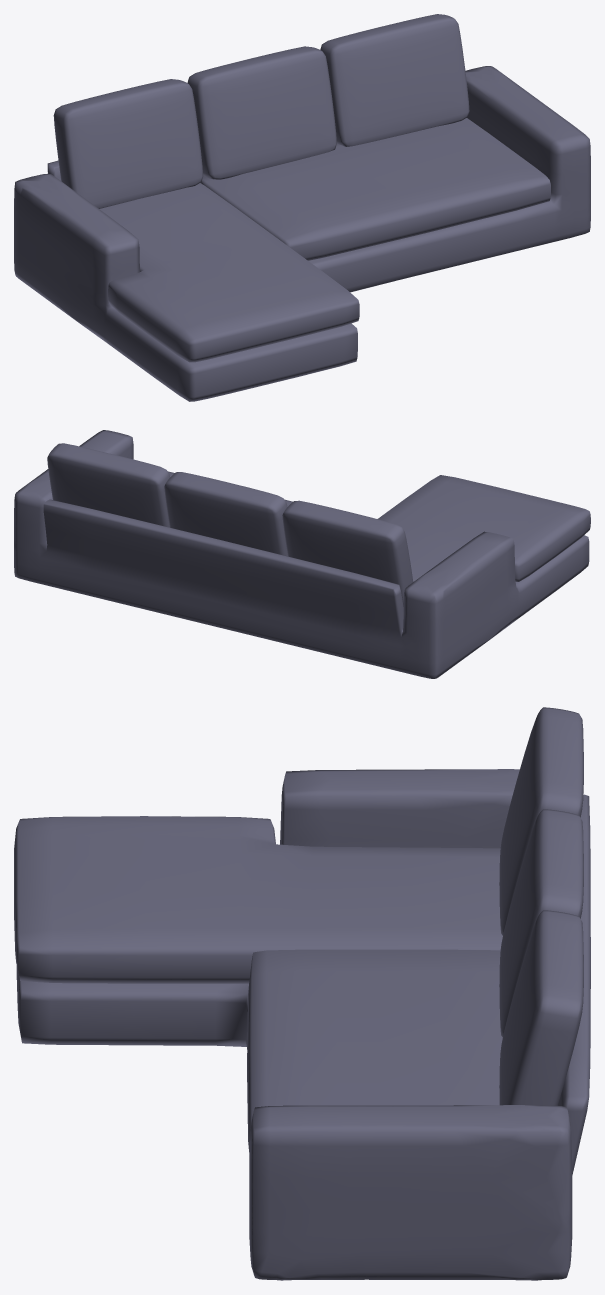
The model's file is sofa_L.fbx.
3 renders of one model, top to bottom at view 1: azimuth 30°, elevation 25°; view 2: azimuth 150°, elevation 25°; view 3: azimuth 270°, elevation 25°, orthographic. The views are drawn at different scales.
Visible parts, largest first — view 1: pCube9; view 2: pCube9; view 3: pCube9.
Part boxes in pixels (x1=…): pCube9: x1=14, y1=14, x2=590, y2=401; pCube9: x1=14, y1=430, x2=590, y2=678; pCube9: x1=14, y1=707, x2=590, y2=1280.
Bounding box in the file's own units: 14.32 × 4.59 × 9.5.
